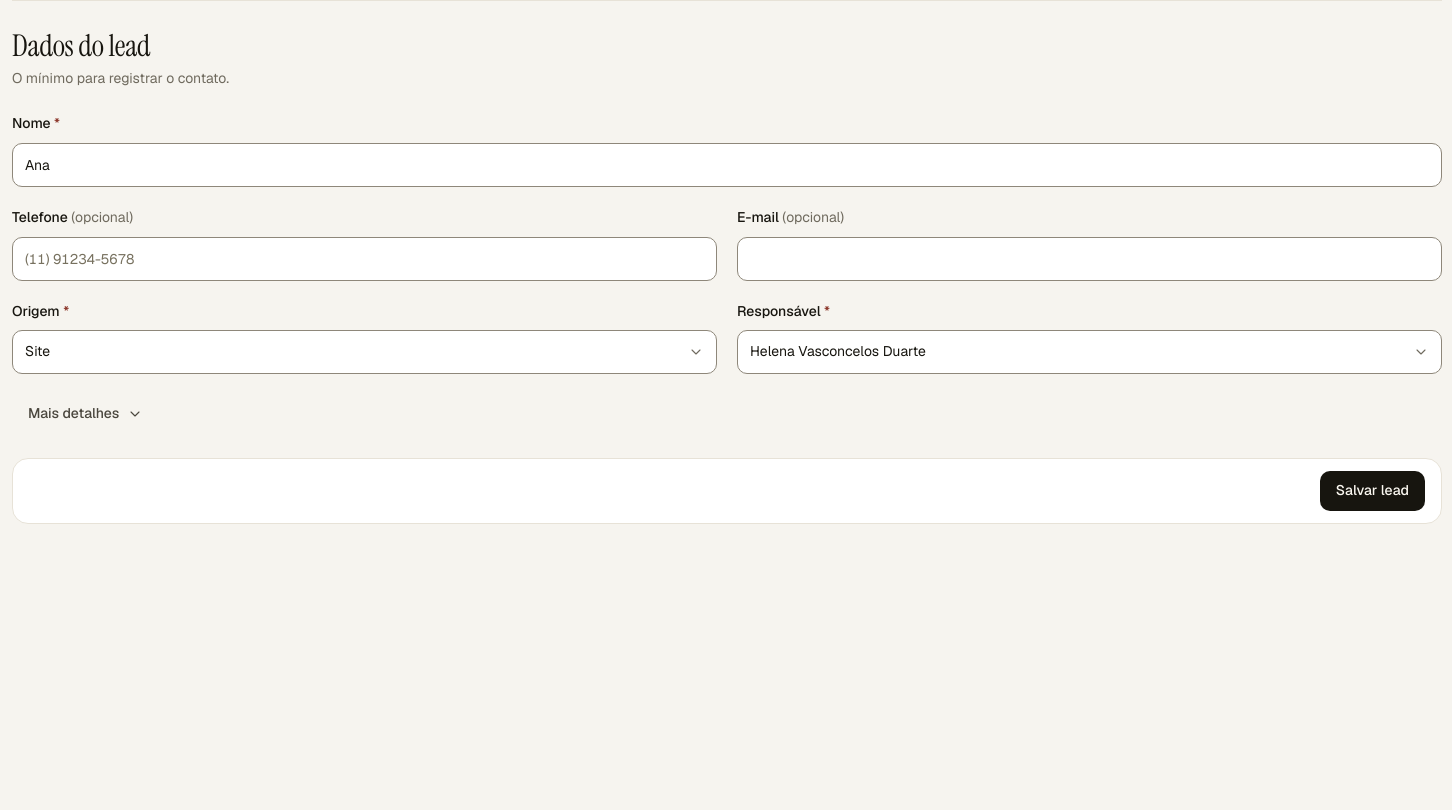
Test: LeadForm (RF-35) › telefone incompleto e e-mail inválido mostram mensagens em pt-BR
Type "1191" into the field labelled "Telefone (opcional)" at {"x": 364, "y": 259}, box [25,238,704,280]
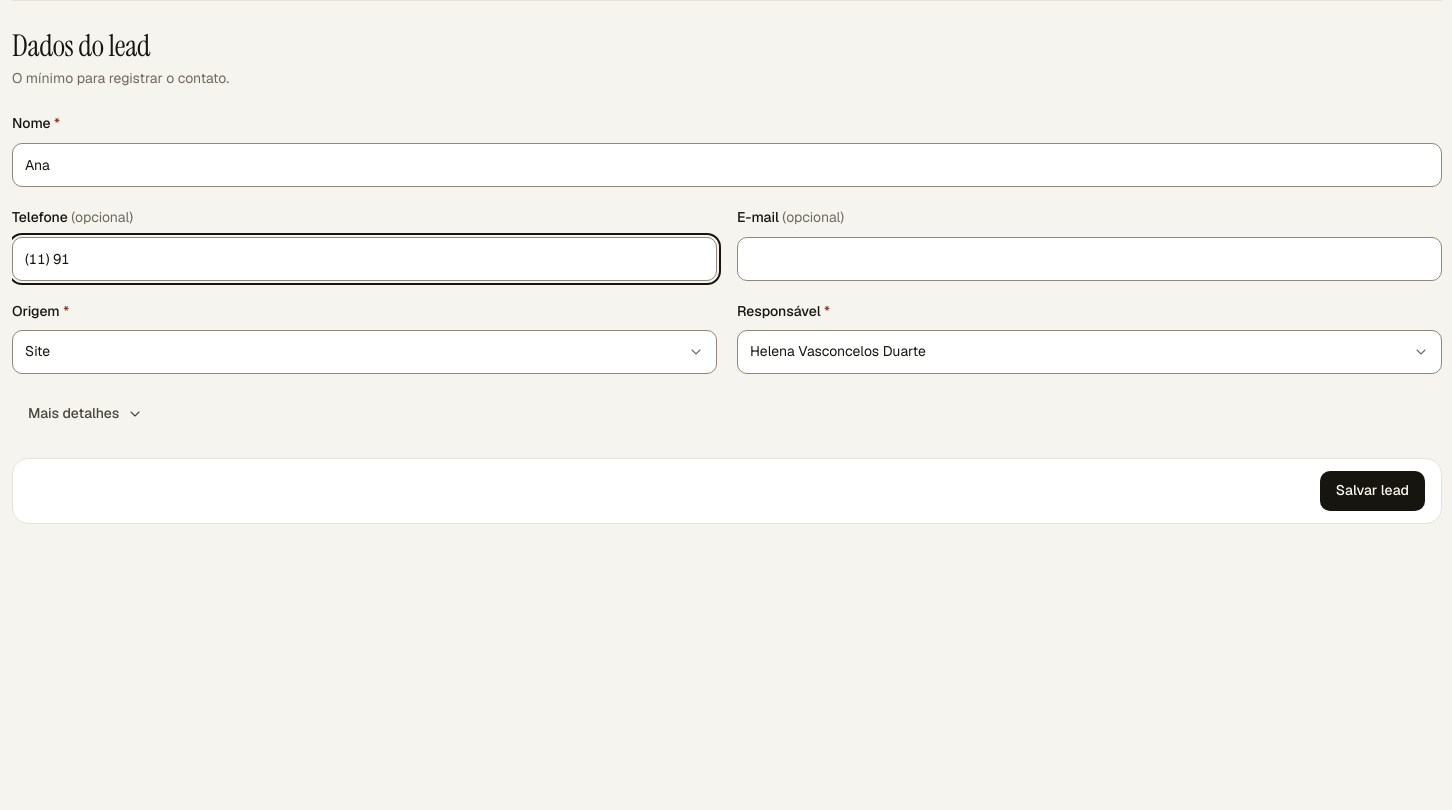
Type "ana@" into the field labelled "E-mail (opcional)" at {"x": 1090, "y": 259}, box [750,238,1429,280]
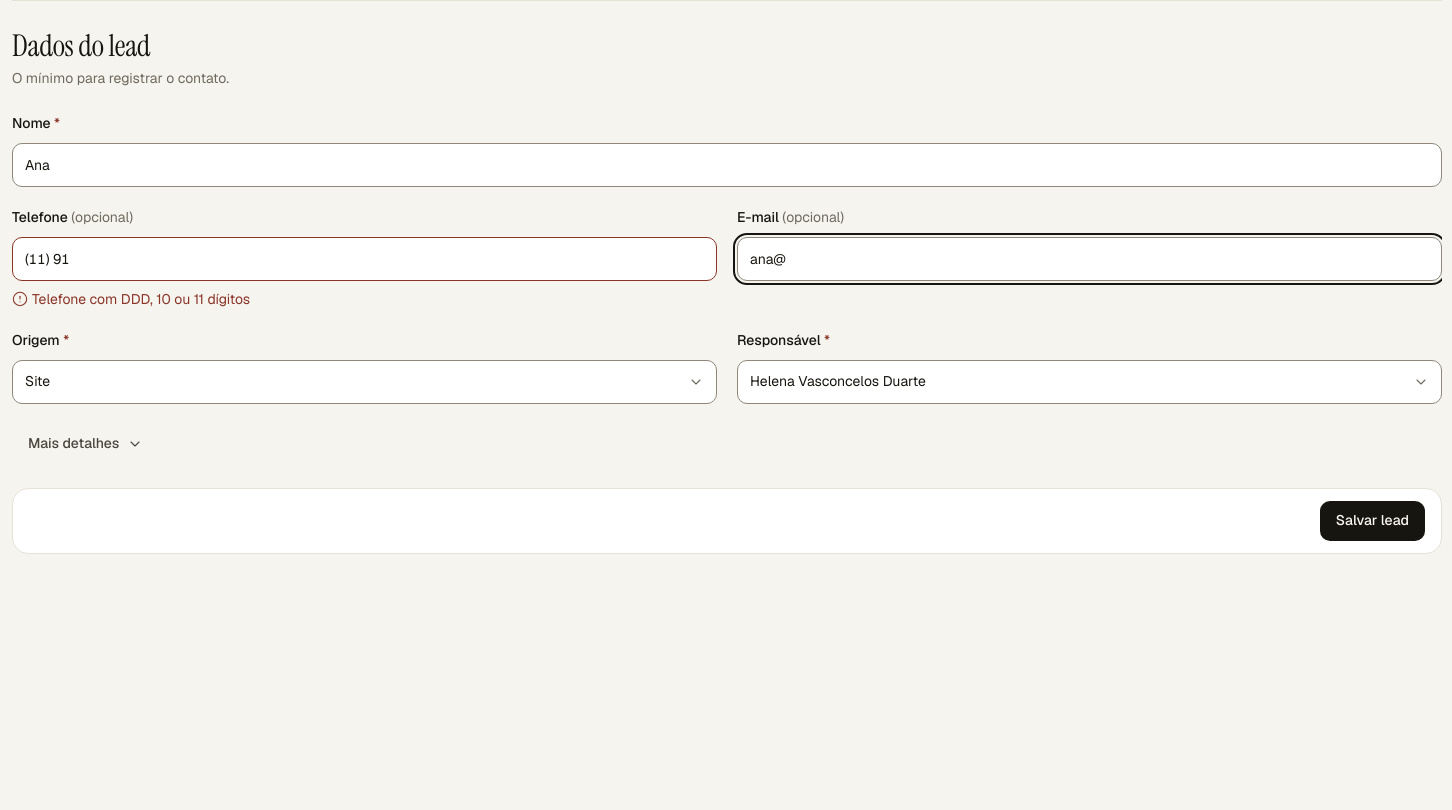
Click the button "Salvar lead" at {"x": 1372, "y": 521}, box [1320,501,1425,541]
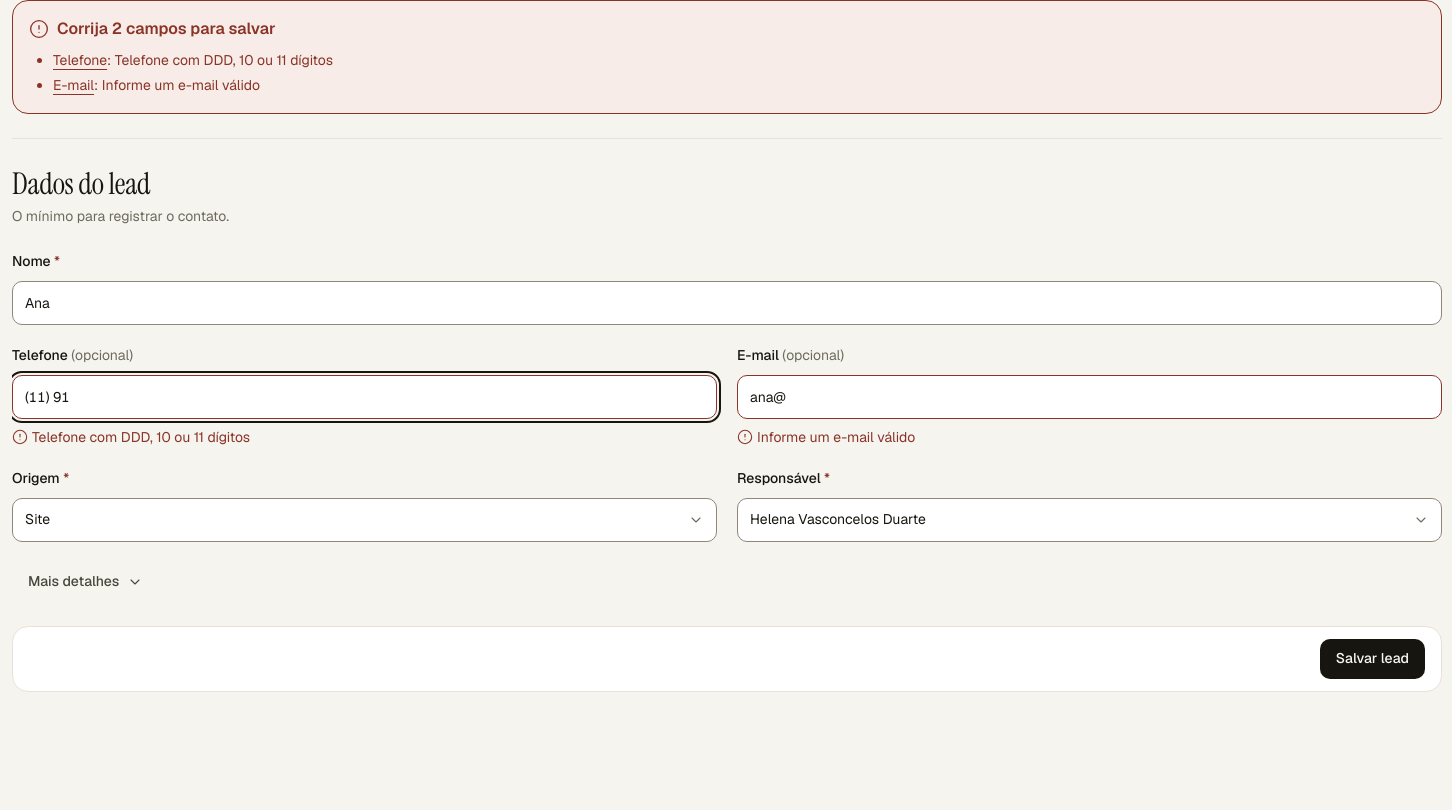
Expected: the text "Telefone com DDD, 10 ou 11 dígitos" is shown, [32,427,250,448]
Expected: the text "Informe um e-mail válido" is shown, [757,427,915,448]
